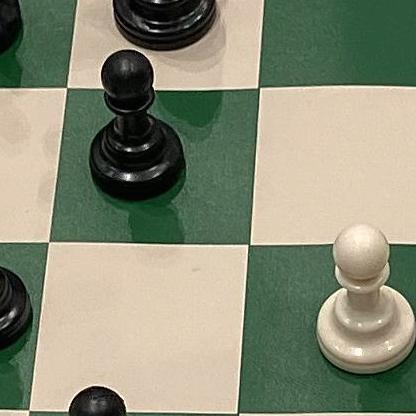black-bishop: (102, 0, 213, 42)
black-pawn: (83, 48, 199, 209), (0, 195, 34, 360), (50, 378, 171, 416)
white-pawn: (313, 202, 416, 379)
